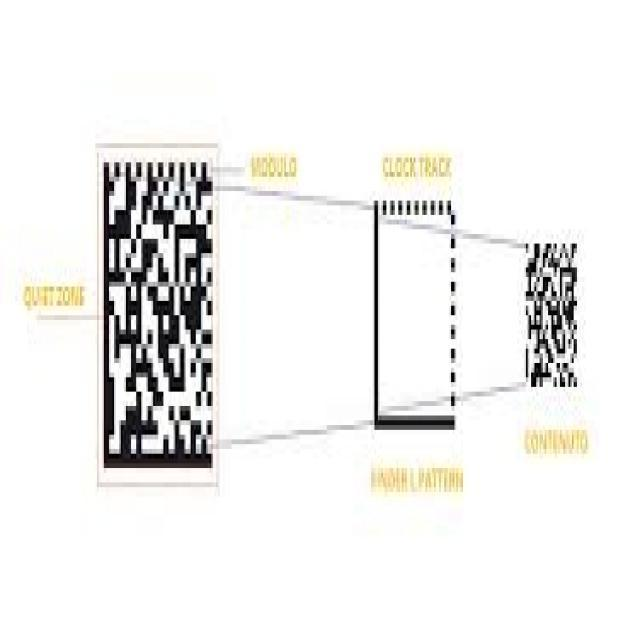Data-Matrix: (101, 148, 216, 482), (371, 191, 460, 444), (523, 229, 579, 392)
